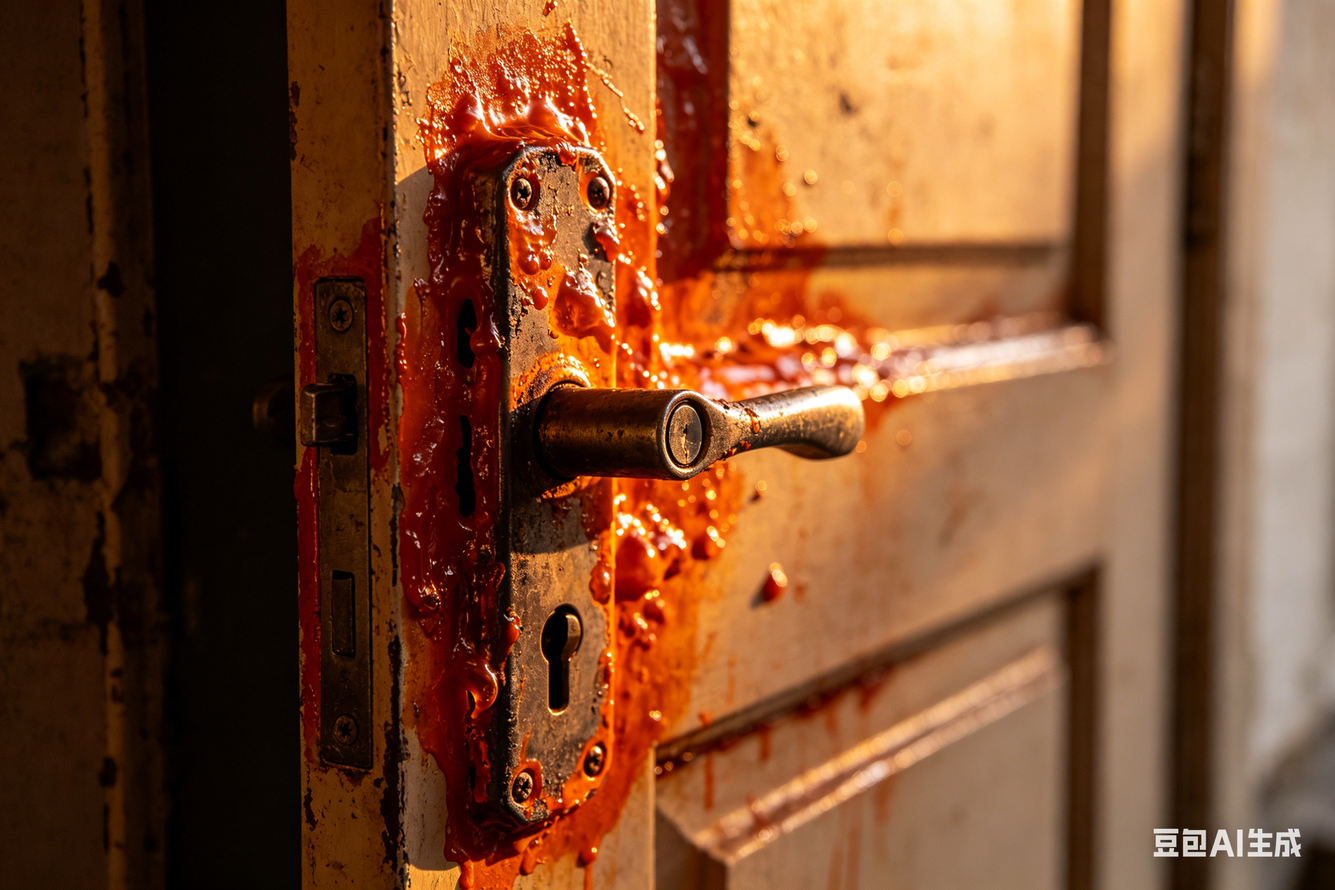BadLock: (449, 120, 639, 810)
